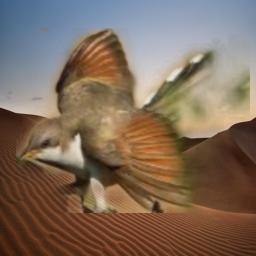Cuckoo: (16, 28, 250, 213)
